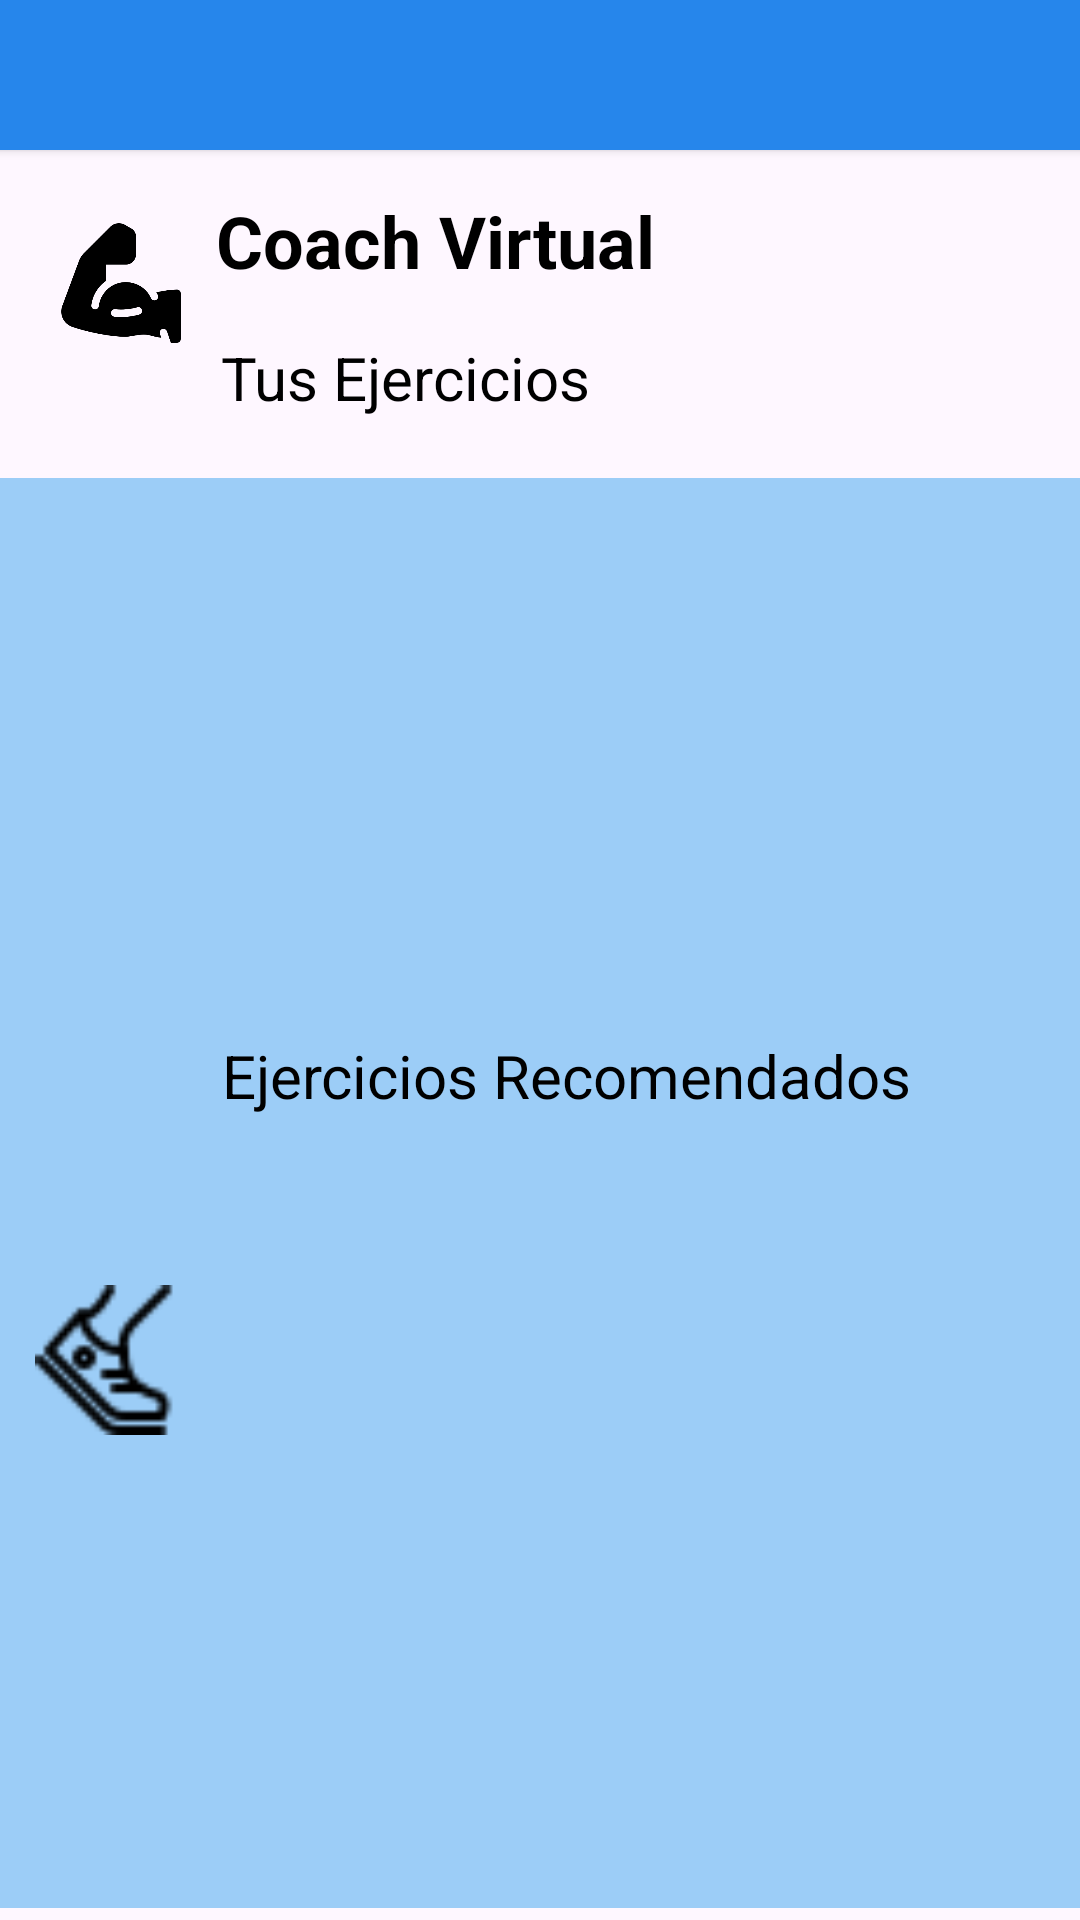

Named icons in this screenshot (1080x1920) and their bounding boxes, bbox=(x1, y1, x2, y2):
biceps: bbox=(61, 223, 181, 343)
foot gym: bbox=(35, 1285, 173, 1435)
